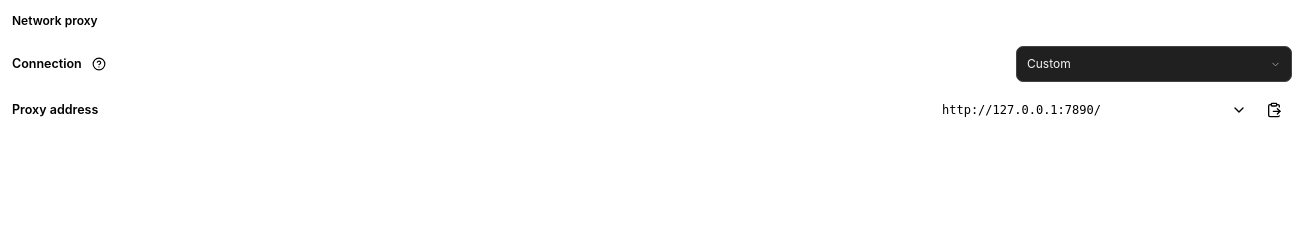
Test: discards an old custom address when saving system/direct
The image size is (1304, 231).
What coordinates should you click on to do the following:
click the dropdown labelled "Custom"
I would click on:
 (1049, 64)
Its box is [1016, 46, 1292, 82].
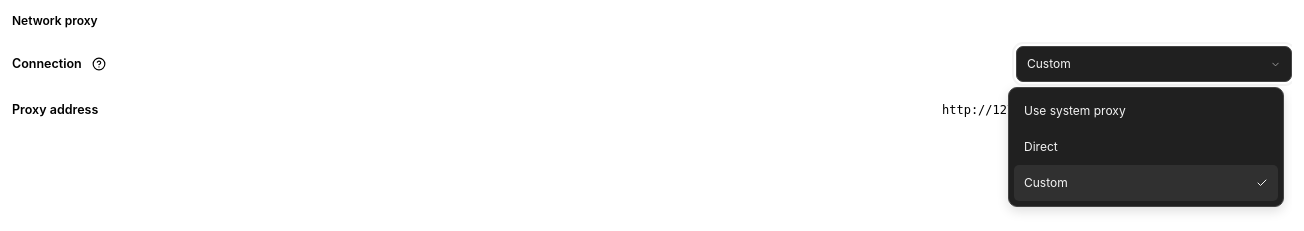
Check: the option "Direct" is shown
What coordinates should you click on to do the following:
click the option "Direct"
I would click on:
 (1041, 146)
Its box is [1024, 139, 1058, 154].
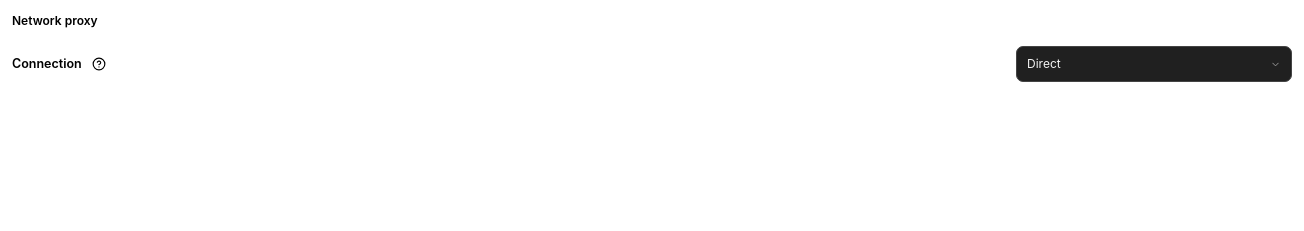
Check: the field is gone
